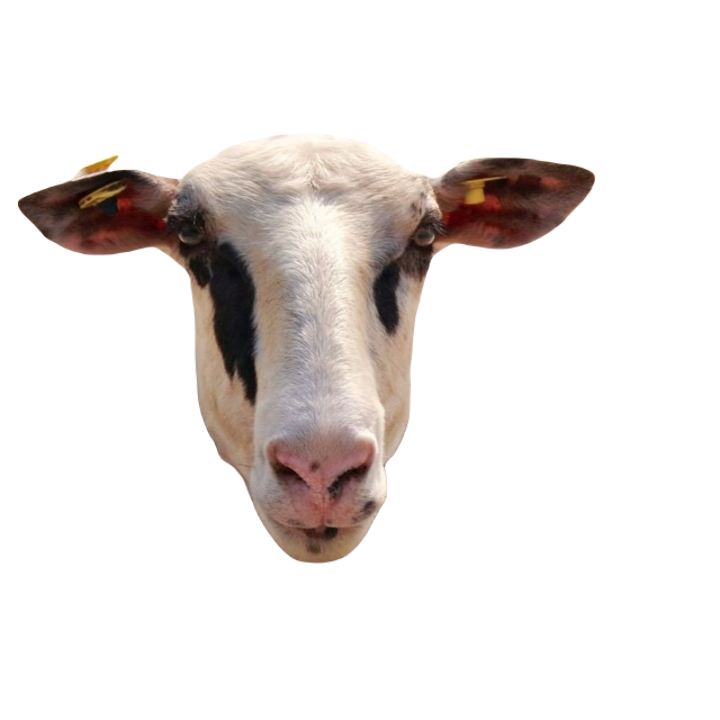Sheep: (13, 124, 602, 570)
